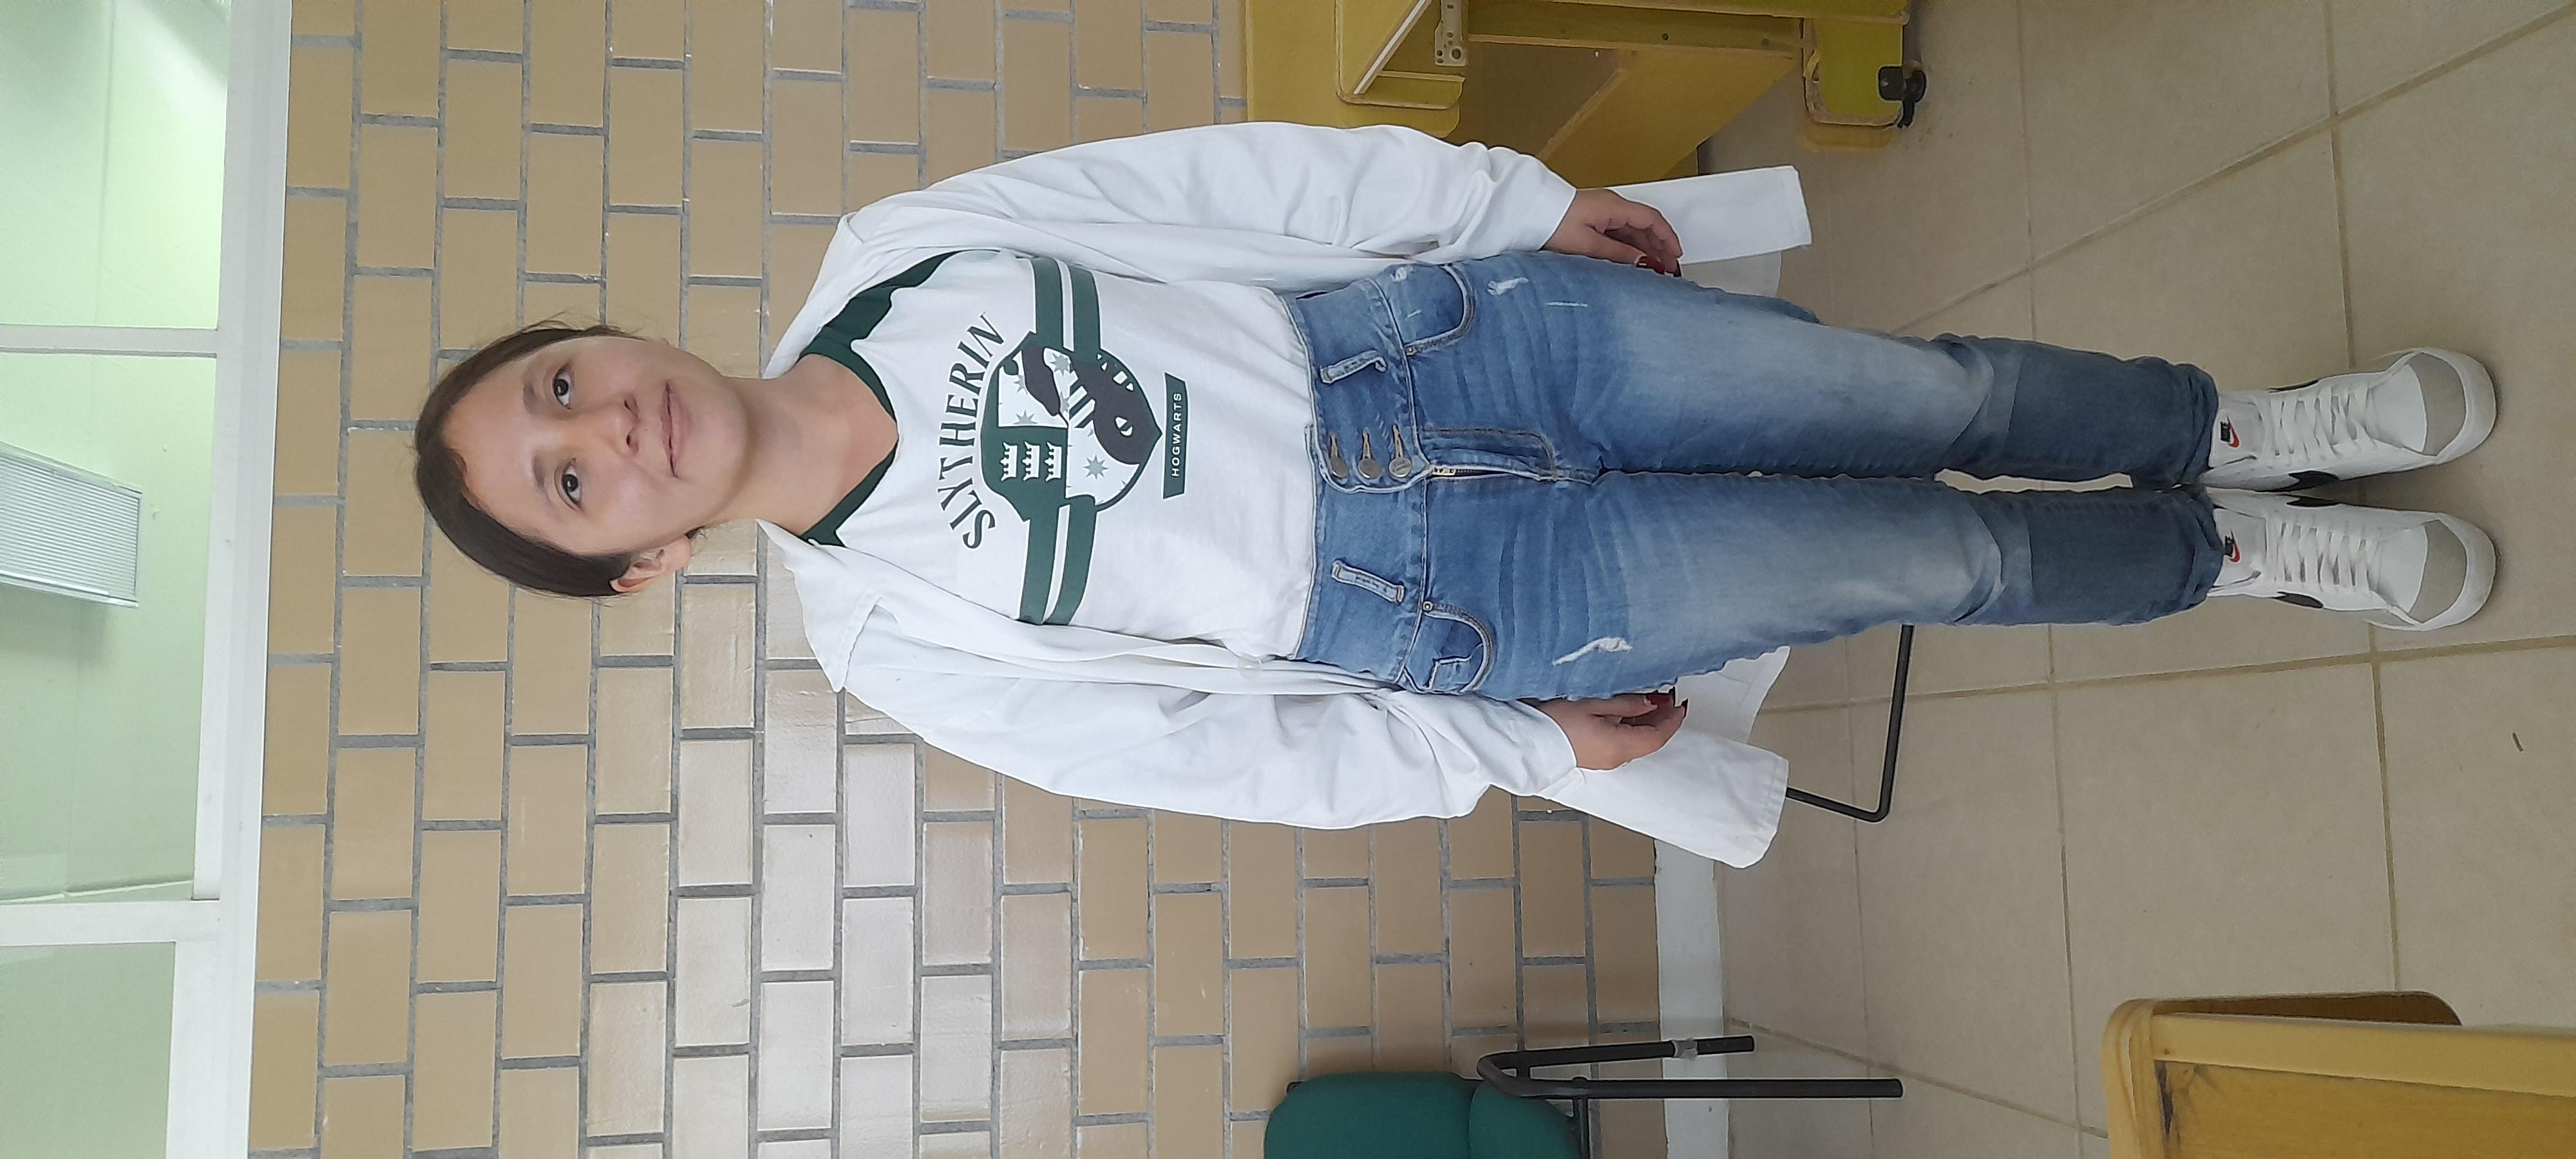Bata-Incorrecta: (586, 154, 2361, 1141)
